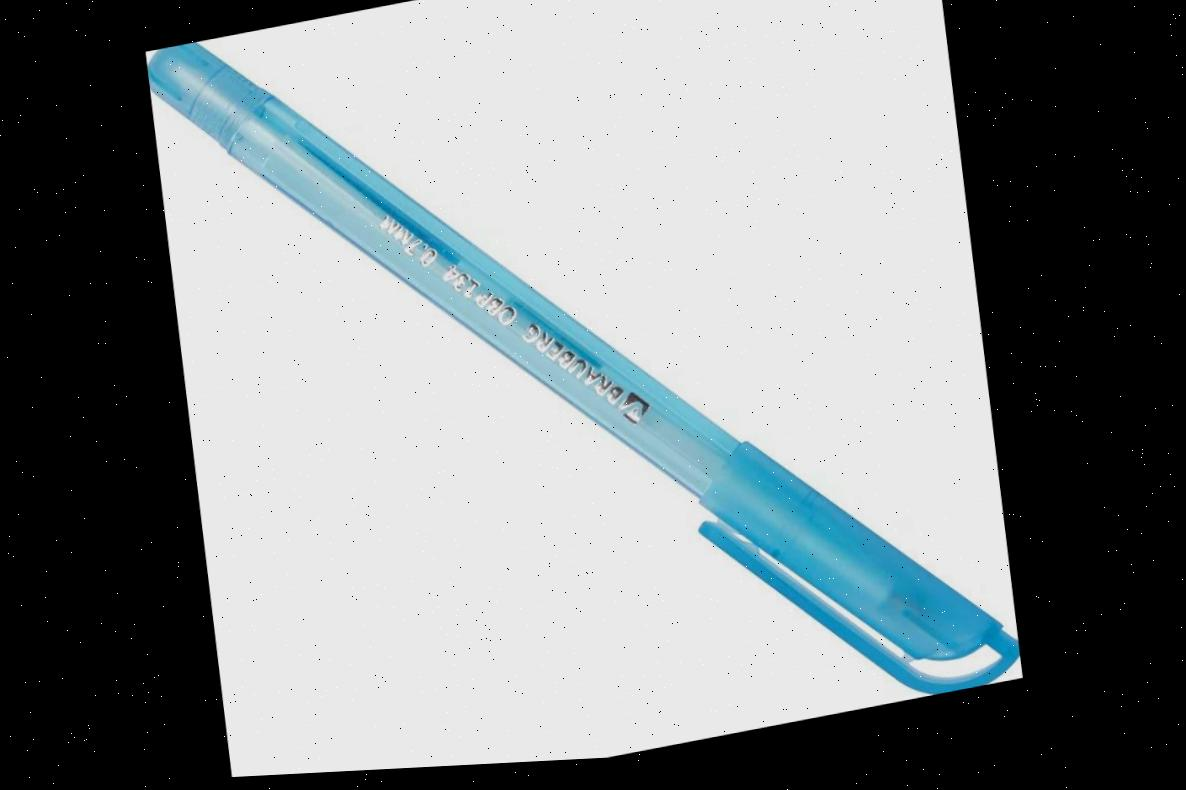pen-pencil: (148, 42, 1020, 693)
